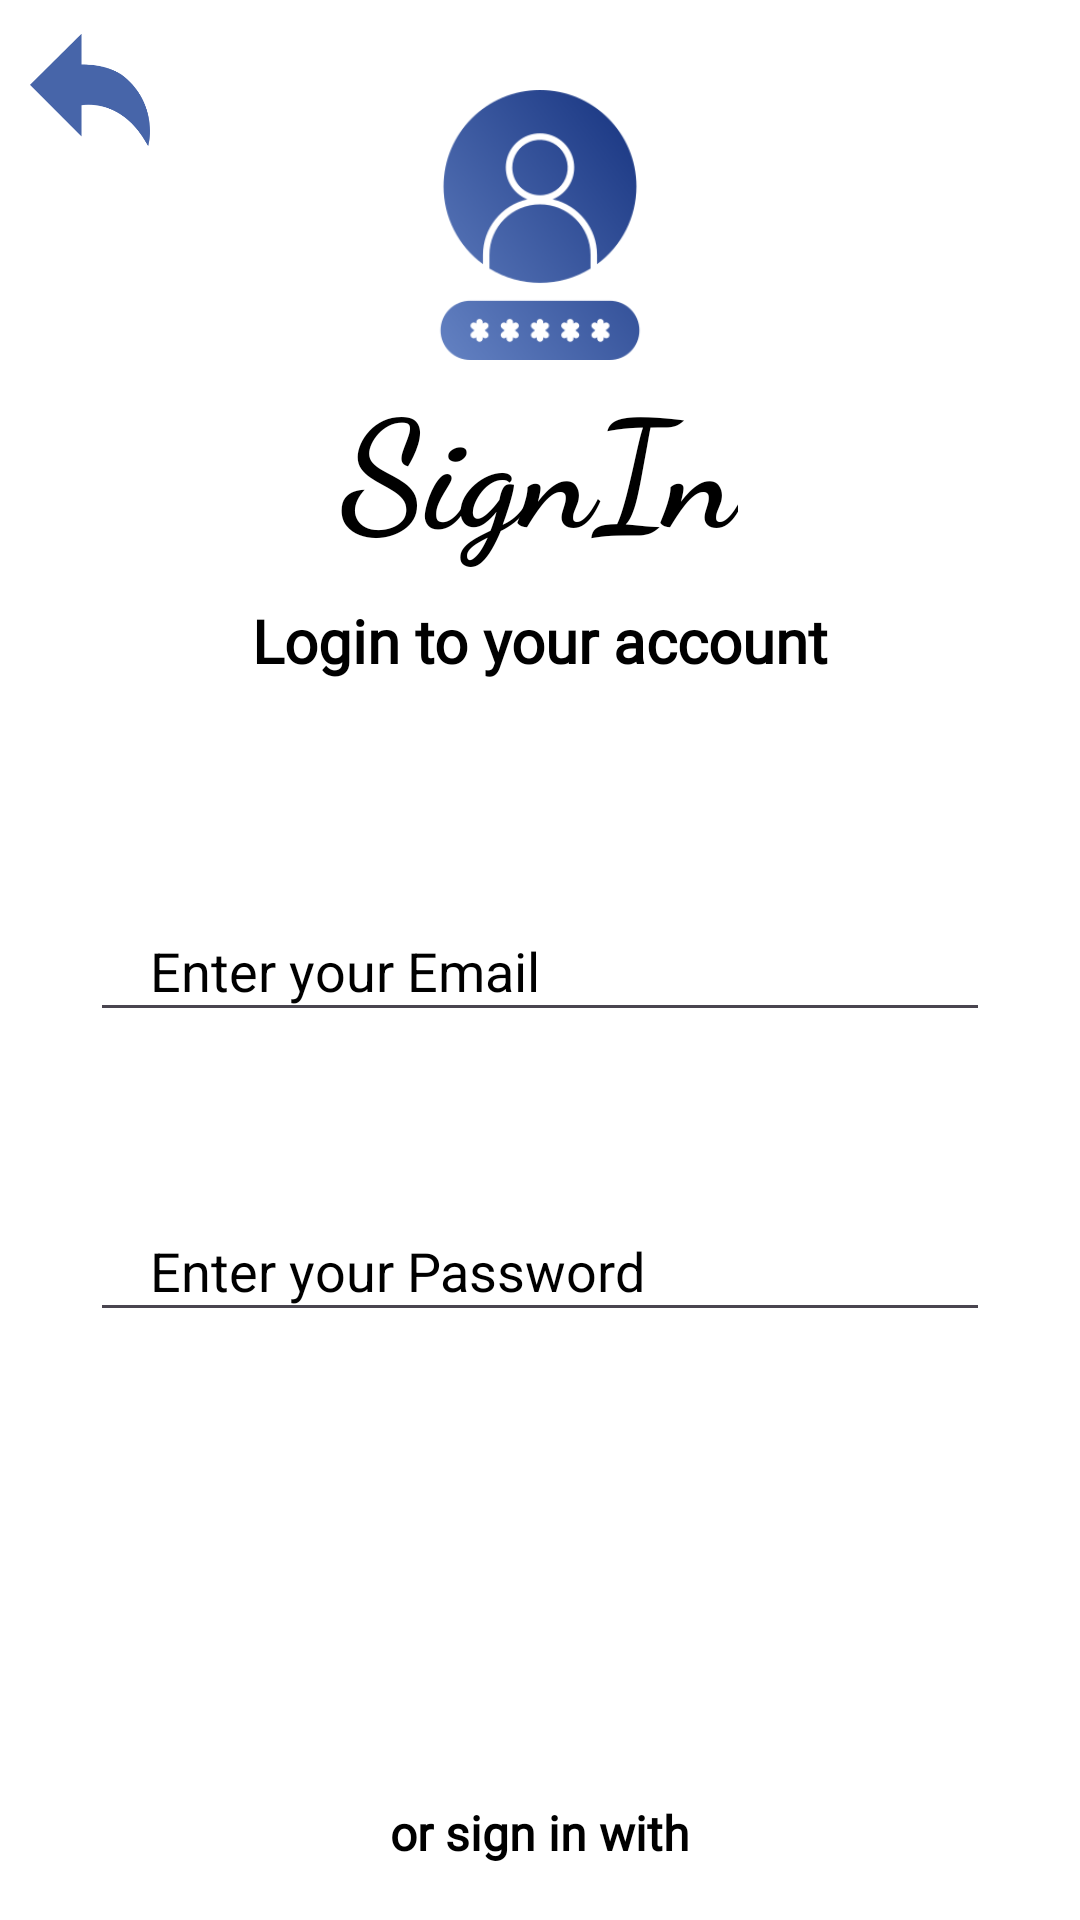

Icons on this 1080w x 1920h Android screen, each with its box as (x1, y1, x2, y2):
signin back: (30, 34, 150, 146)
